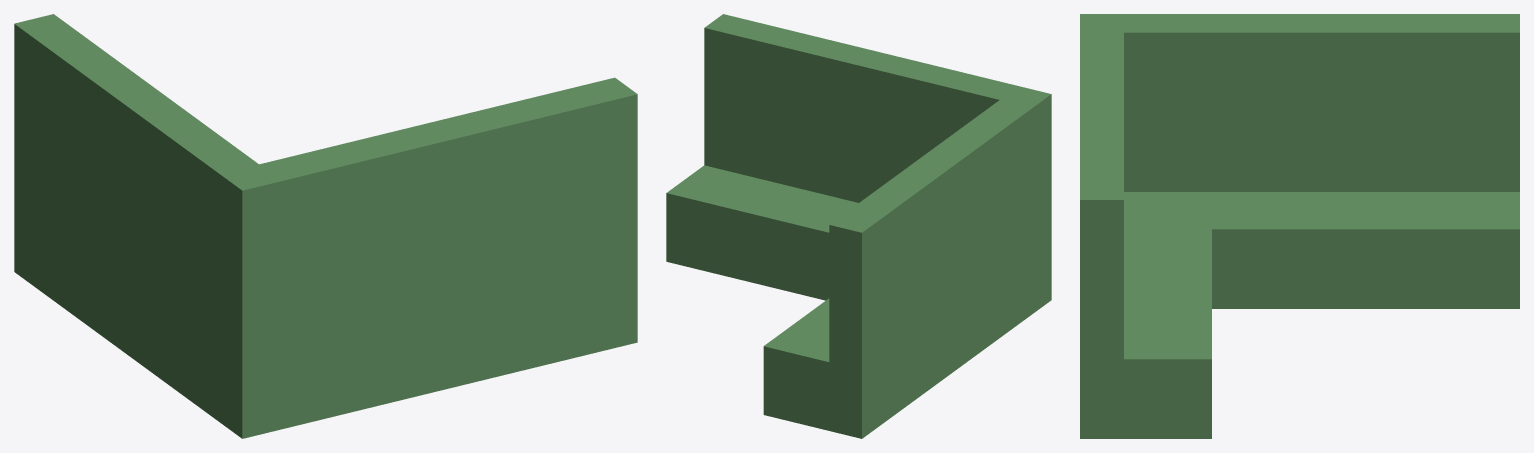
Rendered from ml_couch.glb.
The picture shows the model from 3 angles, left to right: view 1: azimuth 30°, elevation 25°; view 2: azimuth 150°, elevation 25°; view 3: azimuth 270°, elevation 25°; orthographic projection. The views are drawn at different scales.
Parts seen in each view (by area): view 1: Cube; view 2: Cube; view 3: Cube.
Boxes of the visible parts, x1,y1,x2,y2 form: Cube: [14, 14, 637, 438]; Cube: [666, 14, 1051, 438]; Cube: [1080, 14, 1519, 438].
Size of the model in its own units: 10 by 6 by 10.
